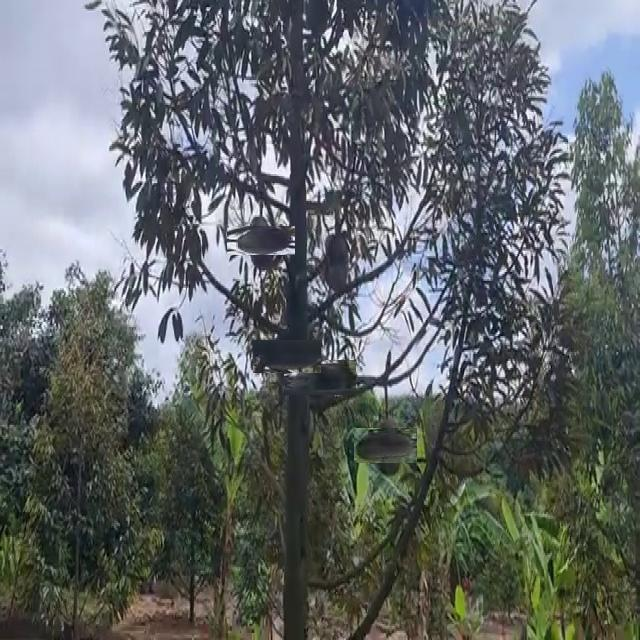durian: (293, 350, 347, 404), (262, 330, 312, 382), (236, 215, 286, 265), (361, 421, 410, 471), (323, 229, 353, 294)
